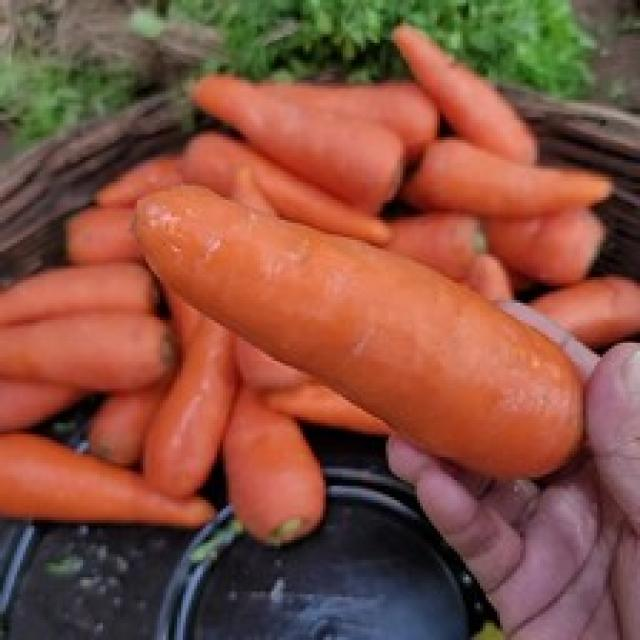Fresh_Carrot: (112, 175, 576, 470)
